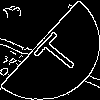T: (25, 25, 84, 78)
